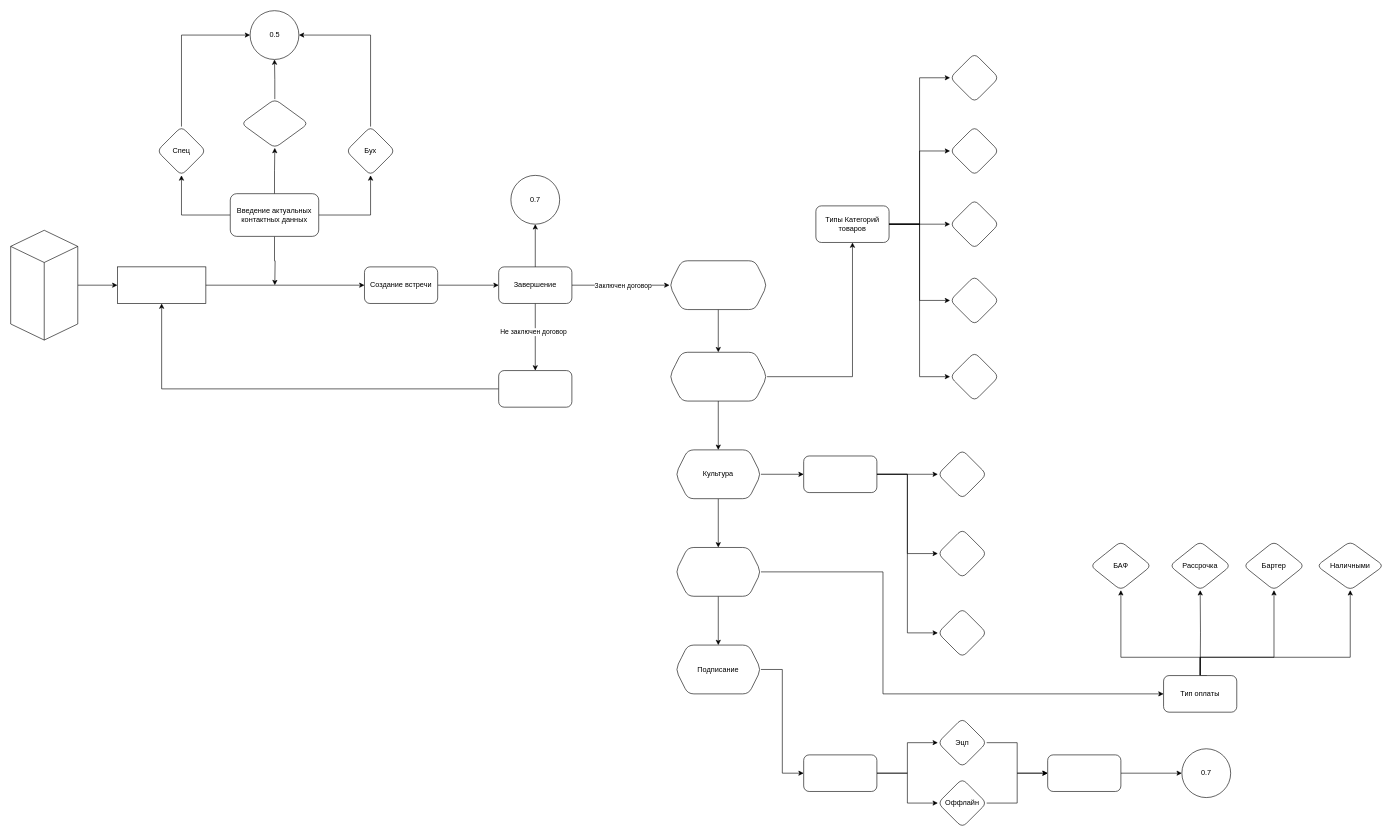
Image size: 1394x838. Some labels were removed from this diagram. Here are the shapes that lost their labels. From the top down, the box of each, then its label:
(241, 99, 308, 148): Руководитель
(117, 266, 206, 303): Поиск клиента
(669, 260, 767, 310): Создание договора
(498, 370, 572, 407): Обратная связь, почему не был заключен договор
(669, 352, 767, 401): Категория товаров
(803, 455, 877, 493): Тип Культуры
(675, 547, 761, 596): Условия оплаты
(803, 754, 877, 791): Тип Подписание
(1047, 754, 1121, 791): Передан в офис
